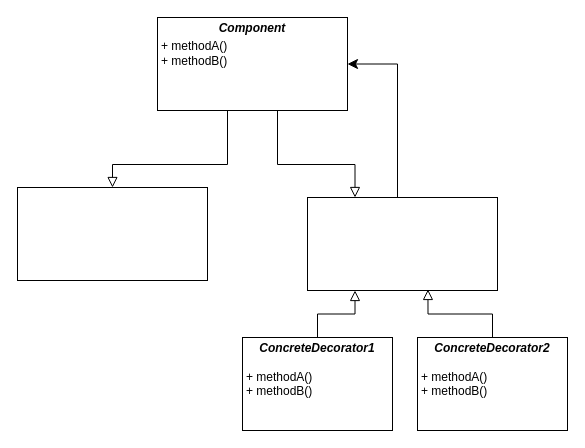
Some shapes in this 585 by 448 pixel diagram are drawn without their labels. The shapes that lost their labels are listed below. From the top down, each one's centre as x and y in pixels, then its label:
At [112,233]: "ConcreteCompoment + methodA() + methodB()".
At [402,243]: "Decorator + methodA() + methodB()".
